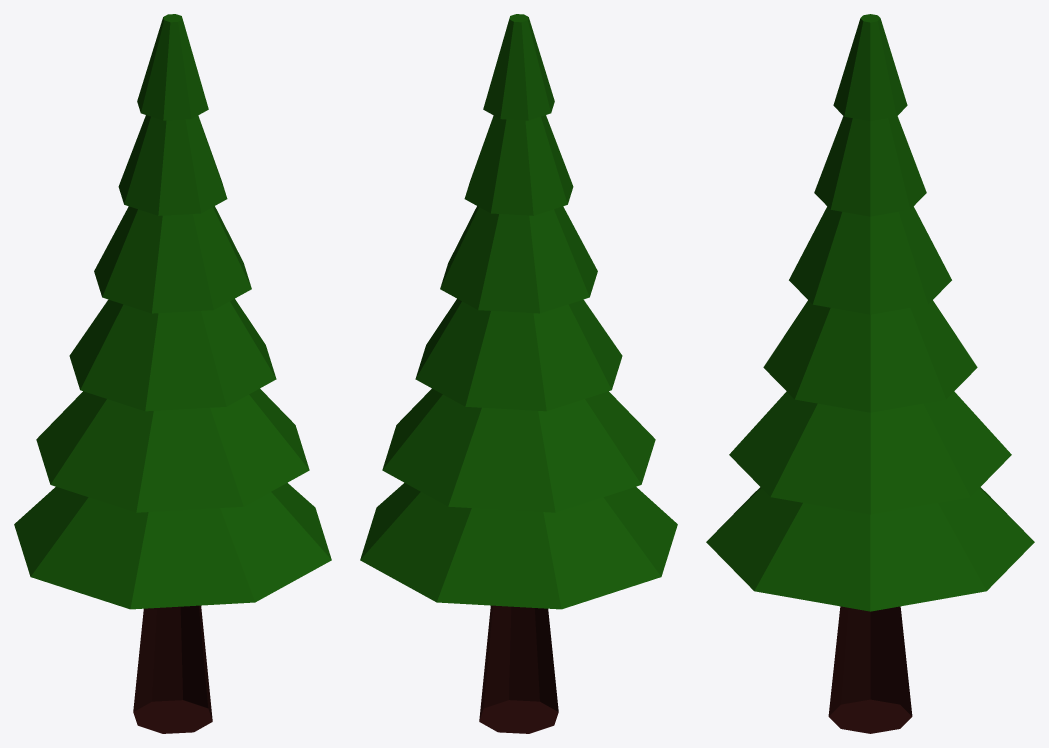
The model's file is low_poly_pine.obj.
3 renders of one model, left to right at view 1: azimuth 30°, elevation 25°; view 2: azimuth 150°, elevation 25°; view 3: azimuth 270°, elevation 25°, orthographic.
Visible parts, largest first — view 1: Cylinder_Cylinder_Leafes, Cylinder_Cylinder_Wood; view 2: Cylinder_Cylinder_Leafes, Cylinder_Cylinder_Wood; view 3: Cylinder_Cylinder_Leafes, Cylinder_Cylinder_Wood.
Boxes of the visible parts, x1=… form: Cylinder_Cylinder_Leafes: x1=14, y1=14, x2=331, y2=609; Cylinder_Cylinder_Wood: x1=133, y1=605, x2=212, y2=733; Cylinder_Cylinder_Leafes: x1=360, y1=14, x2=677, y2=609; Cylinder_Cylinder_Wood: x1=479, y1=605, x2=558, y2=733; Cylinder_Cylinder_Leafes: x1=706, y1=14, x2=1034, y2=611; Cylinder_Cylinder_Wood: x1=828, y1=606, x2=912, y2=733.
Bounding box in the file's own units: 6 × 14.05 × 6.
